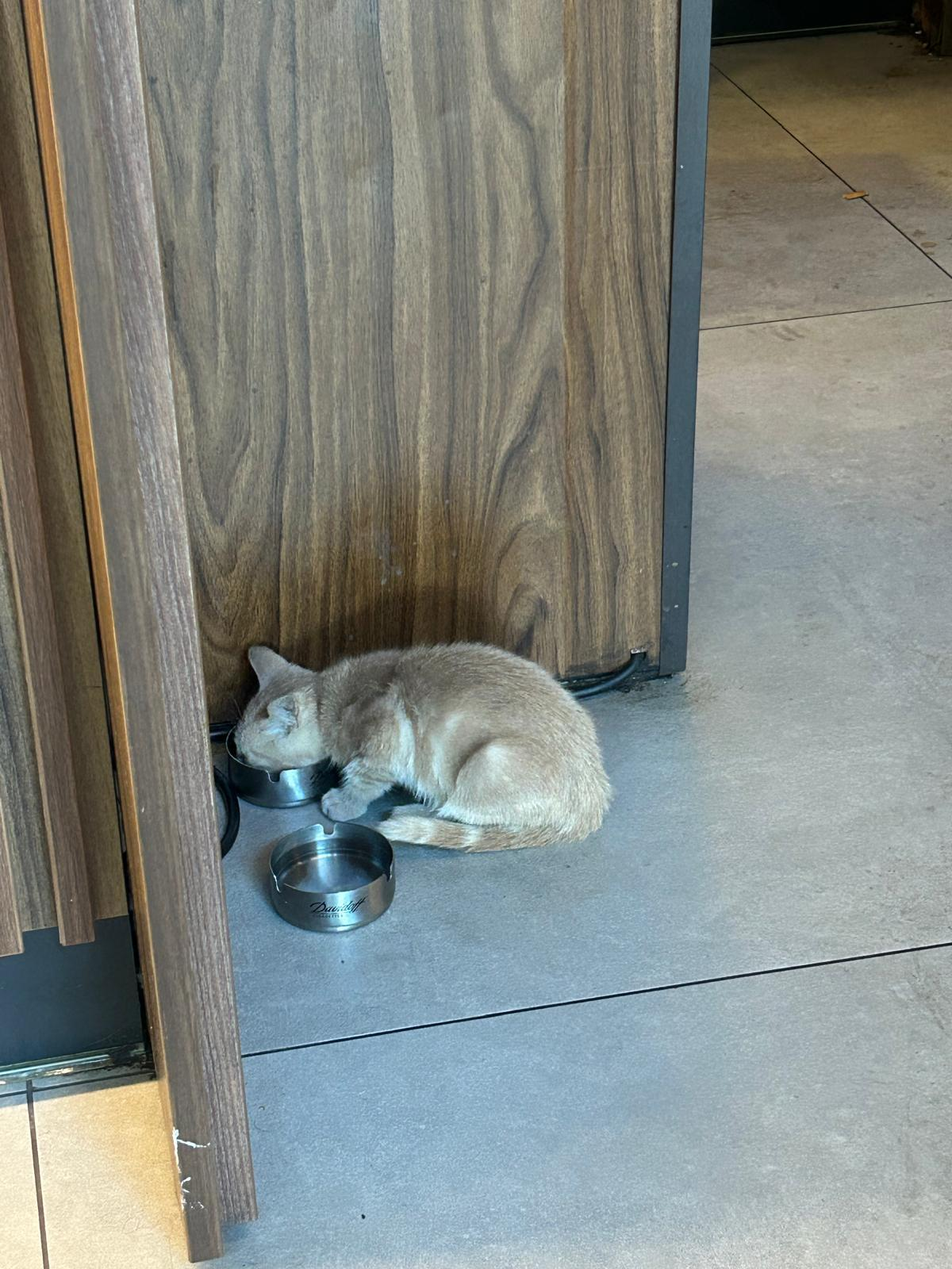macka: (235, 644, 614, 853)
